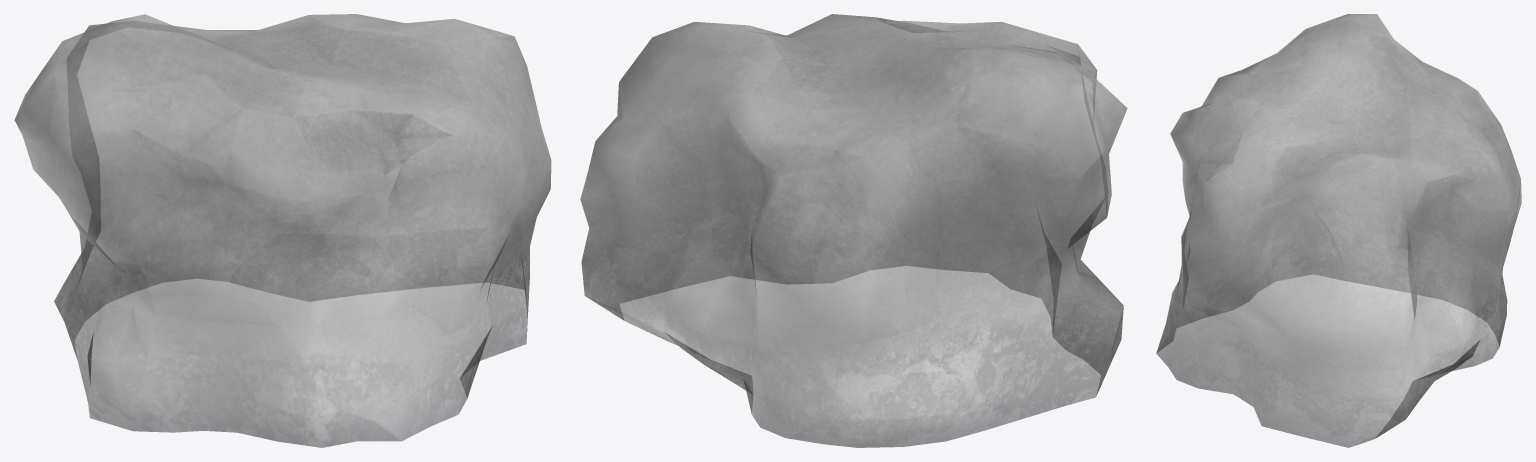
The model's file is stone.obj.
3 views of the same model, side by side, from view 1: azimuth 30°, elevation 25°; view 2: azimuth 150°, elevation 25°; view 3: azimuth 270°, elevation 25° (orthographic). The views are drawn at different scales.
Parts seen in each view (by area): view 1: stone; view 2: stone; view 3: stone.
Boxes of the visible parts, bbox=[...] form: stone: bbox=[14, 14, 551, 447]; stone: bbox=[580, 14, 1127, 447]; stone: bbox=[1156, 14, 1521, 447].
Size of the model in its own units: 136 by 91.15 by 109.
1 material, 1 textured.
